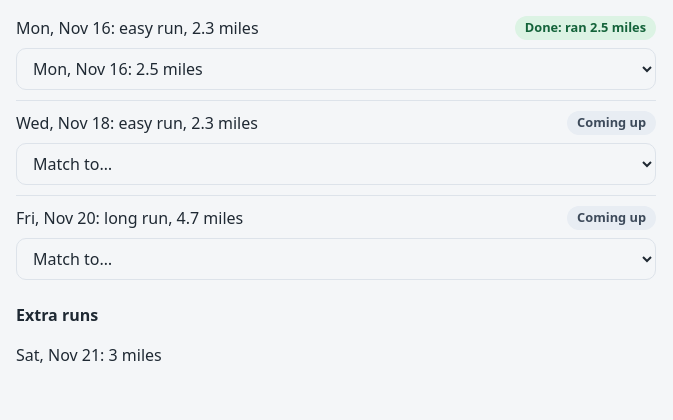
Test case: PlannedWeek: undoing a hand match › shows the reason when undoing fails
Select "Let the app decide" in the dropdown named "Run for Mon, Nov 16" at (336, 69), box x1=16 y1=48 x2=656 y2=90
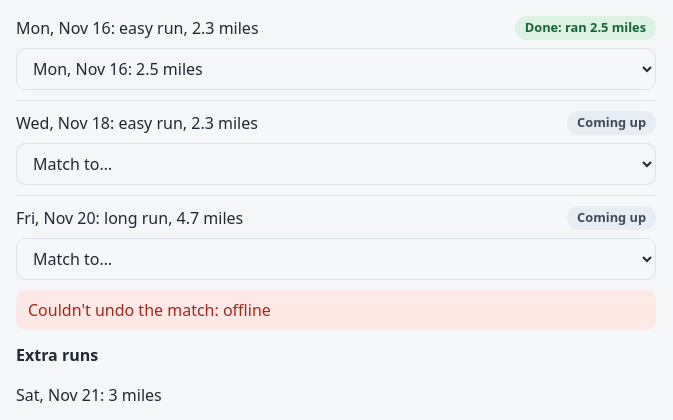
Check: the message reads "Couldn't undo the match: offline", box x1=28 y1=299 x2=271 y2=321
